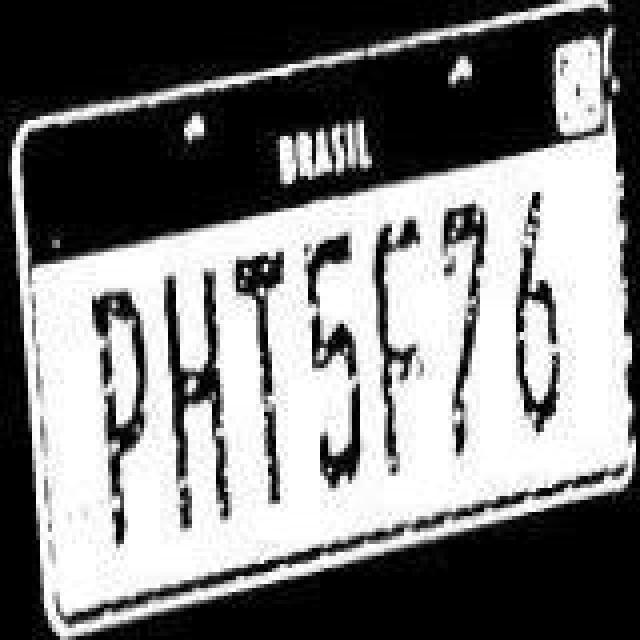5: (300, 222, 364, 498)
6: (512, 178, 576, 442)
7: (436, 188, 508, 464)
F: (372, 210, 428, 486)
H: (156, 256, 228, 540)
P: (88, 276, 152, 552)
T: (230, 240, 298, 512)
